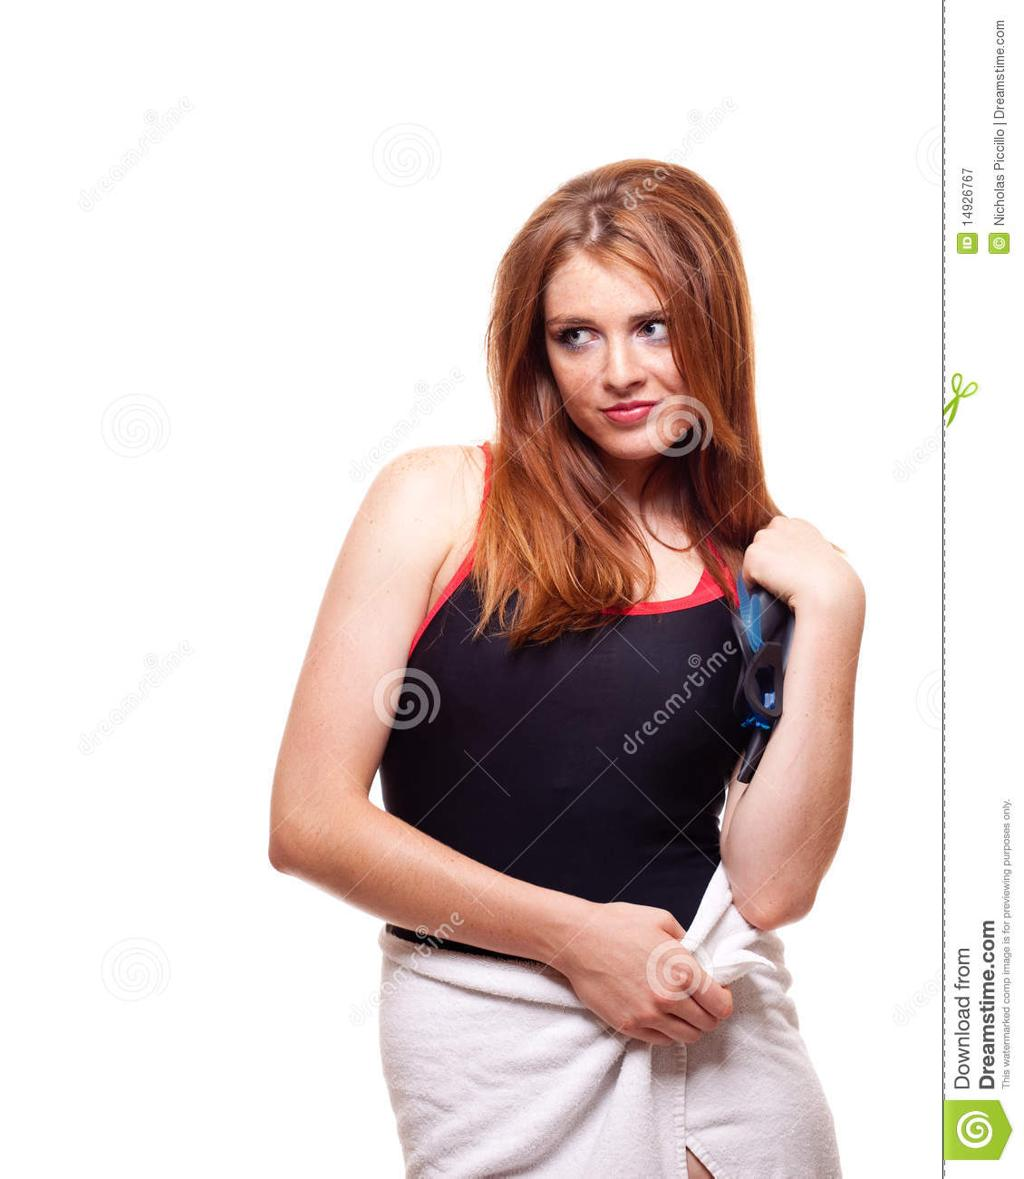face: (541, 244, 697, 456)
